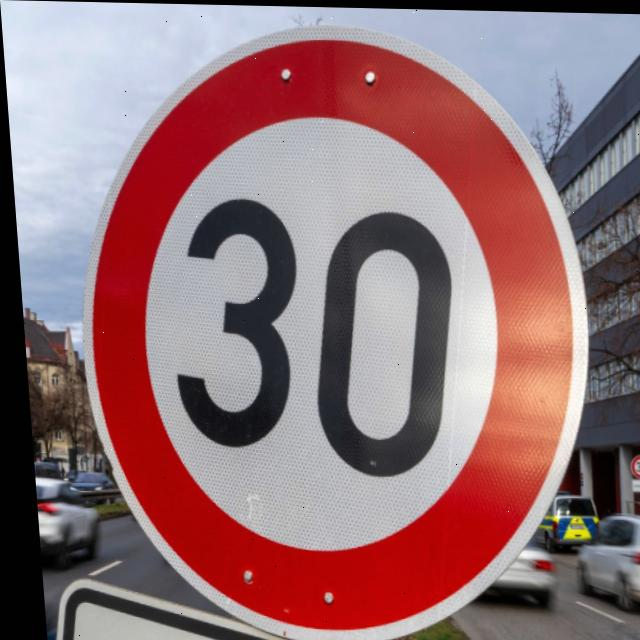Speed limit 30: (58, 17, 605, 640)
